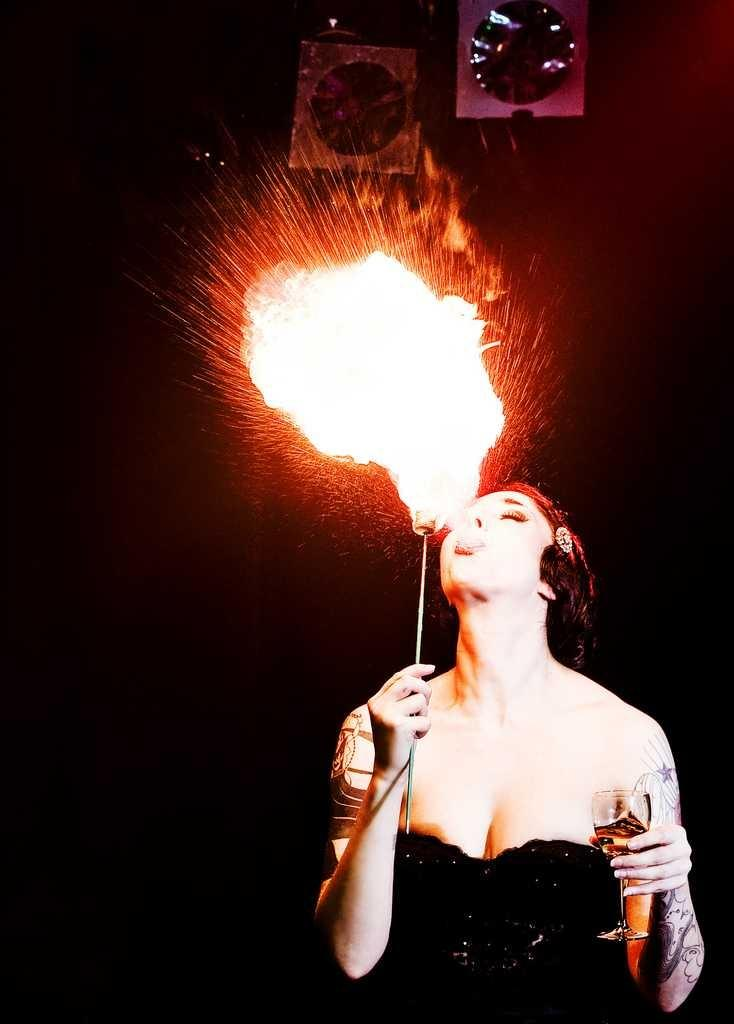fire: (277, 283, 488, 467)
